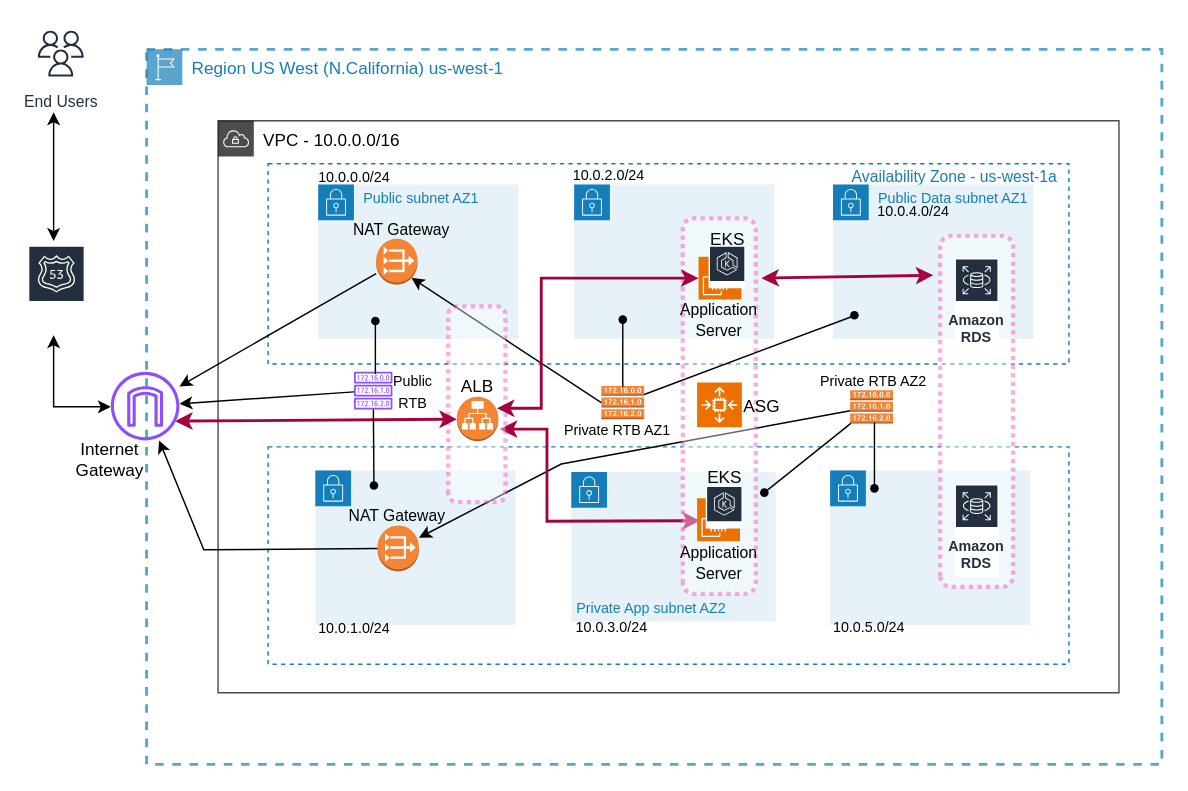
This 1188x791 diagram has some shape labels left out. Each missing label, with the box of its shape:
Amazon Route 53: (26, 244, 85, 360)
Availability Zone - us-west-1b: (267, 445, 1069, 664)
Private App subnet AZ1: (573, 183, 774, 339)
Public Data subnet AZ2: (829, 469, 1030, 625)
Public subnet AZ2: (314, 469, 516, 625)
